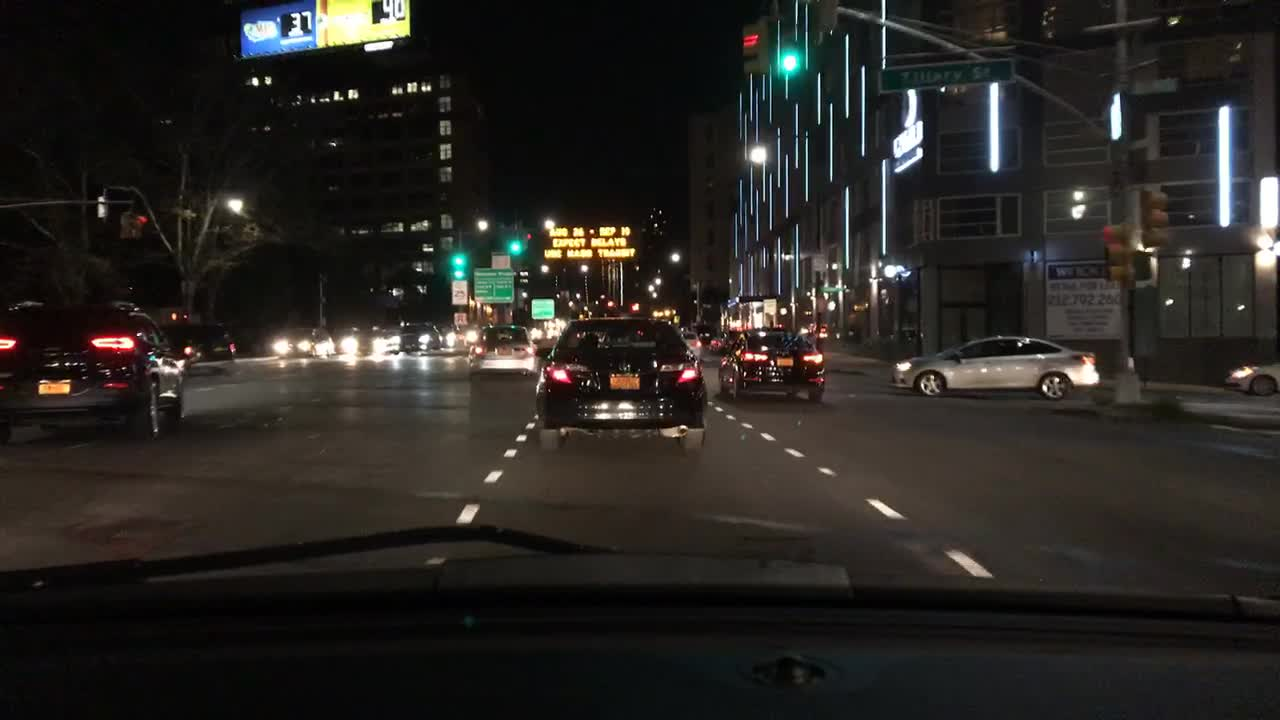car: (0, 299, 187, 445), (535, 315, 708, 452), (890, 333, 1101, 400), (715, 329, 828, 403), (464, 323, 540, 381), (160, 323, 237, 360), (271, 326, 332, 359), (1221, 361, 1277, 396), (397, 323, 442, 351), (331, 329, 359, 357), (679, 332, 703, 362), (359, 328, 383, 356), (718, 329, 740, 357), (381, 329, 403, 354), (543, 319, 567, 339), (522, 328, 549, 344), (461, 326, 485, 342), (705, 332, 721, 353), (439, 331, 457, 347)
traffic light: (1104, 220, 1135, 283), (1139, 184, 1168, 246), (739, 20, 767, 74), (774, 38, 803, 83), (117, 212, 146, 237), (507, 237, 525, 255), (449, 255, 467, 270), (167, 311, 181, 326), (627, 302, 641, 313)
traffic sign: (878, 59, 1015, 90), (475, 267, 515, 305), (1130, 75, 1175, 95), (528, 298, 555, 319), (451, 280, 467, 305), (811, 252, 825, 273), (761, 296, 776, 314), (452, 311, 466, 326)
